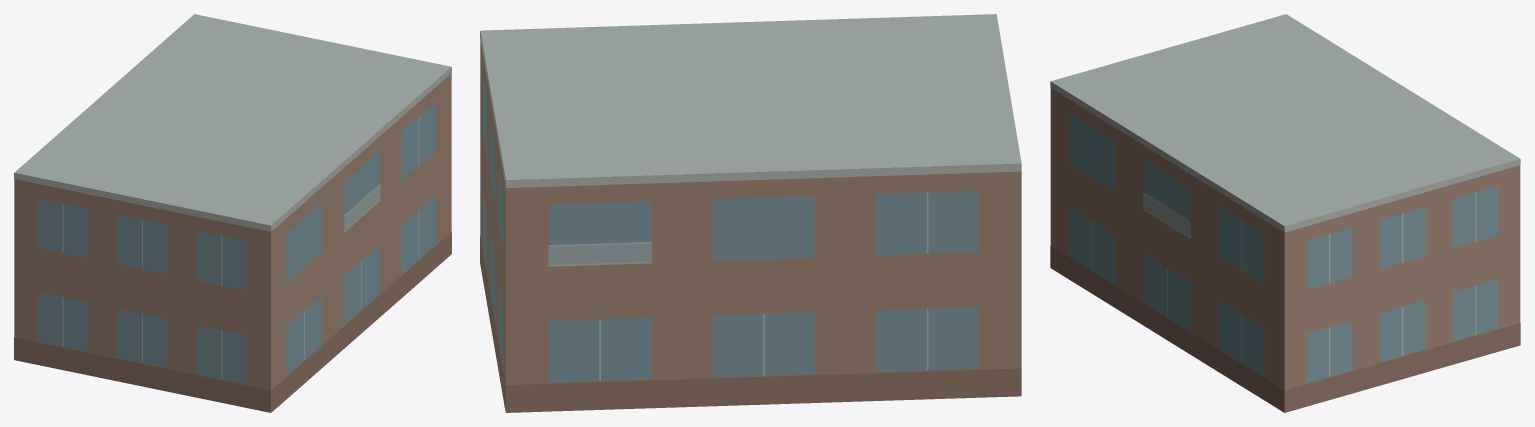
Rendered from survey-upis-33017282.glb.
The picture shows the model from 3 angles, left to right: view 1: azimuth 30°, elevation 25°; view 2: azimuth 150°, elevation 25°; view 3: azimuth 270°, elevation 25°; orthographic projection. The views are drawn at different scales.
Visible parts, largest first — view 1: survey-upis-33017282.tmp; view 2: survey-upis-33017282.tmp; view 3: survey-upis-33017282.tmp.
Boxes of the visible parts, box(x1,y1,x2,y2) form: survey-upis-33017282.tmp: box(14, 14, 451, 412); survey-upis-33017282.tmp: box(480, 14, 1021, 412); survey-upis-33017282.tmp: box(1050, 14, 1520, 412).
Size of the model in its own units: 17.58 by 7.2 by 16.45.
